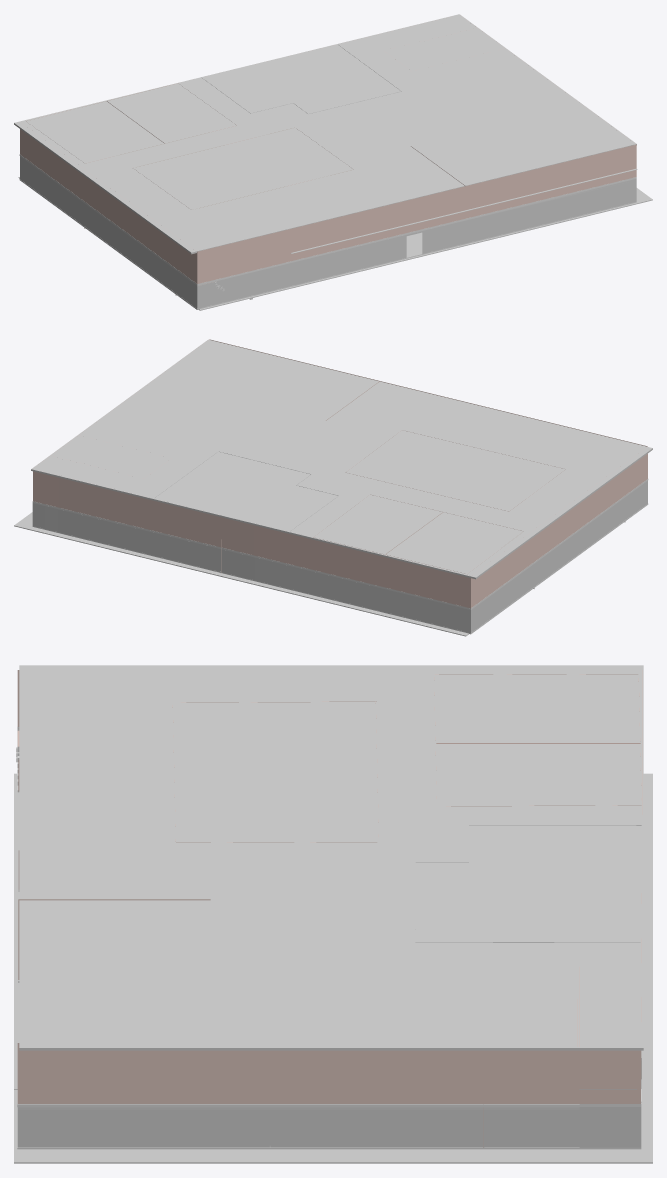
The model's file is 1StFLoor.fbx.
3 views of the same model, one above another, from view 1: azimuth 30°, elevation 25°; view 2: azimuth 150°, elevation 25°; view 3: azimuth 270°, elevation 25° (orthographic). The views are drawn at different scales.
Parts seen in each view (by area): view 1: Plane.001, Room.013, Room, Plane.002, Baseboard.009, Baseboard, Plane; view 2: Plane.001, Room.013, Room, Plane.002, Baseboard.009, Baseboard; view 3: Plane.001, Room.013, Room, Plane.002, Baseboard.009, Baseboard, Plane.
Boxes of the visible parts, <box> form: Plane.001: <box>14,14,636,254</box>; Room.013: <box>20,26,636,283</box>; Room: <box>20,156,636,308</box>; Plane.002: <box>18,177,652,310</box>; Baseboard.009: <box>19,154,636,285</box>; Baseboard: <box>19,179,636,309</box>; Plane: <box>291,168,637,253</box>; Plane.001: <box>31,339,652,579</box>; Room.013: <box>33,339,647,608</box>; Room: <box>32,481,647,632</box>; Plane.002: <box>14,512,468,636</box>; Baseboard.009: <box>32,479,648,609</box>; Baseboard: <box>32,503,648,634</box>; Plane.001: <box>19,665,643,1050</box>; Room.013: <box>17,670,642,1103</box>; Room: <box>17,730,641,1147</box>; Plane.002: <box>14,773,652,1163</box>; Baseboard.009: <box>17,727,641,1107</box>; Baseboard: <box>17,1089,641,1149</box>; Plane: <box>14,792,636,1089</box>.
Size of the model in its own units: 11001 by 1408 by 7519.
